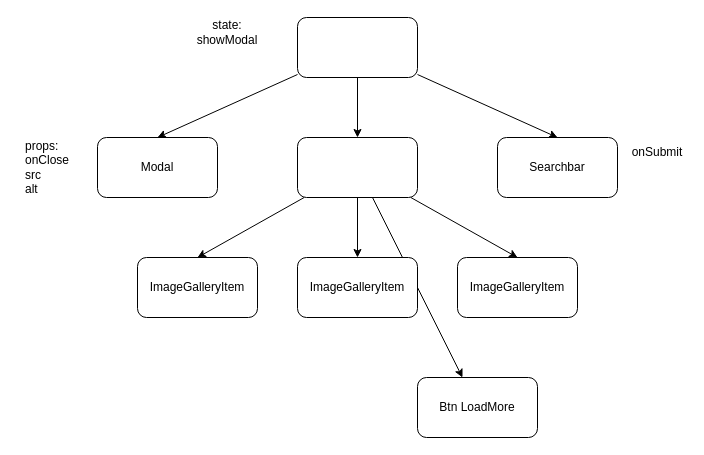
This 704x455 diagram has some shape labels left out. The shapes that lost their labels are listed below. From the top down, each one's centre as x and y in pixels, then its label:
the point at 357,47: App
the point at 357,167: ImageGallery
